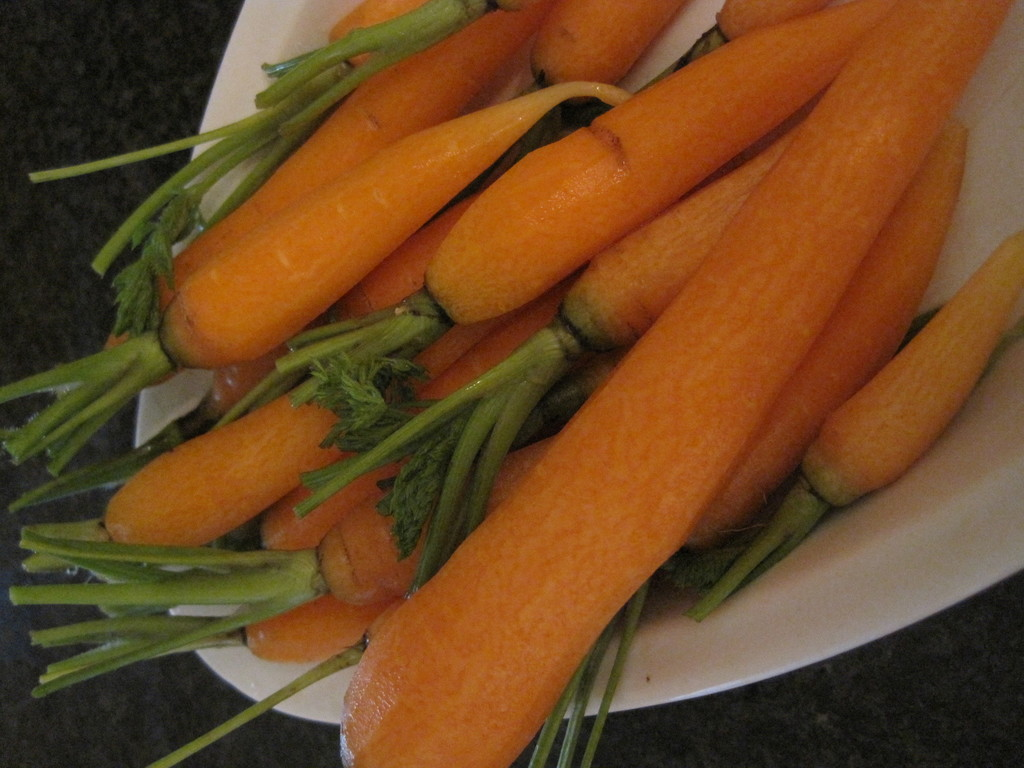Carrot: (0, 0, 1023, 767)
